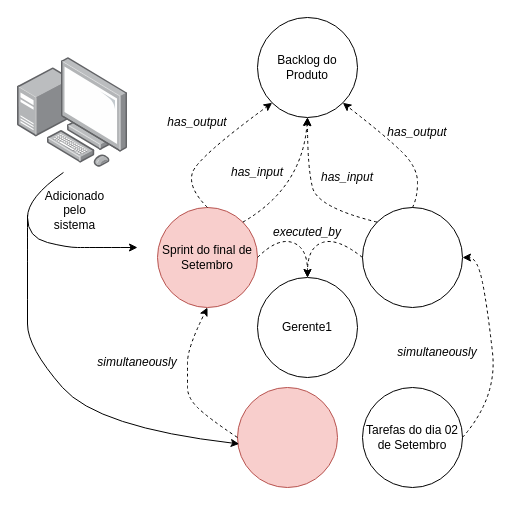
The diagram is 511 pixels wide and 505 high, and some of its shapes have lost their labels. Each missing label, with the centre of its shape:
"Sprint do começo de Setembro" belongs at (x=412, y=257).
"Tarefas do dia 29 de Setembro" belongs at (x=287, y=437).
